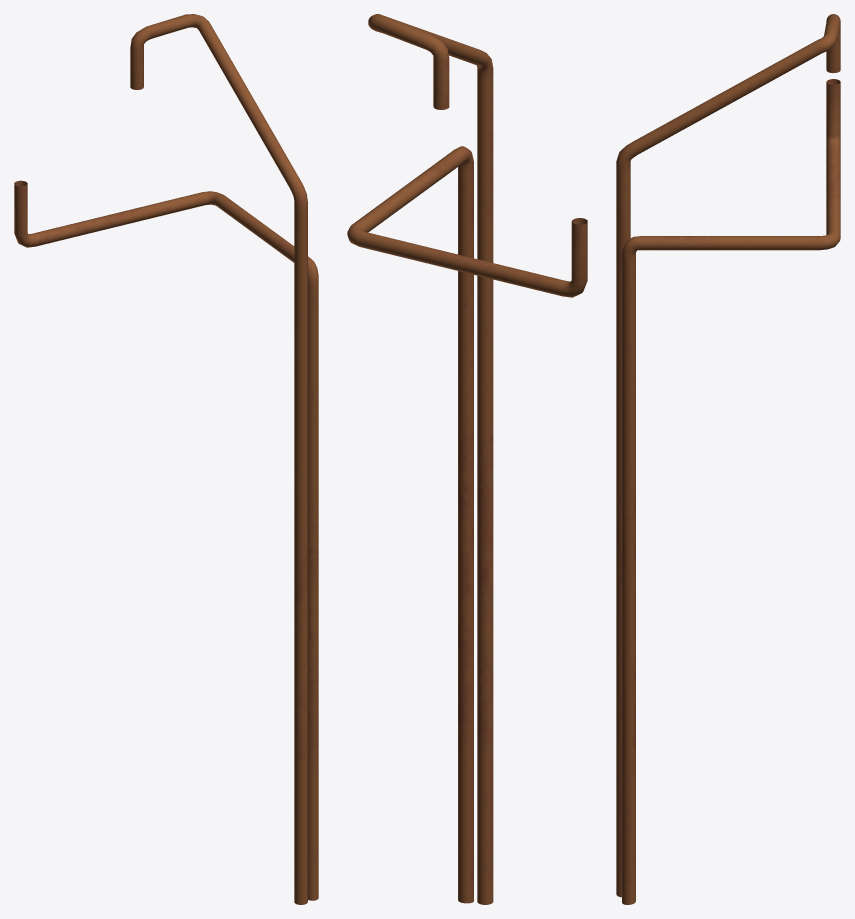
Rendered from SM_Can_Pipe.fbx.
3 renders of one model, left to right at view 1: azimuth 30°, elevation 25°; view 2: azimuth 150°, elevation 25°; view 3: azimuth 270°, elevation 25°, orthographic. The views are drawn at different scales.
Parts seen in each view (by area): view 1: SM_Can_Pipe; view 2: SM_Can_Pipe; view 3: SM_Can_Pipe.
Part boxes in pixels (x1,y1,x2,y2): SM_Can_Pipe: (14, 14, 318, 904); SM_Can_Pipe: (347, 14, 587, 904); SM_Can_Pipe: (616, 14, 840, 904).
Size of the model in its own units: 91.8 by 83.1 by 350.
1 material, 1 textured.
